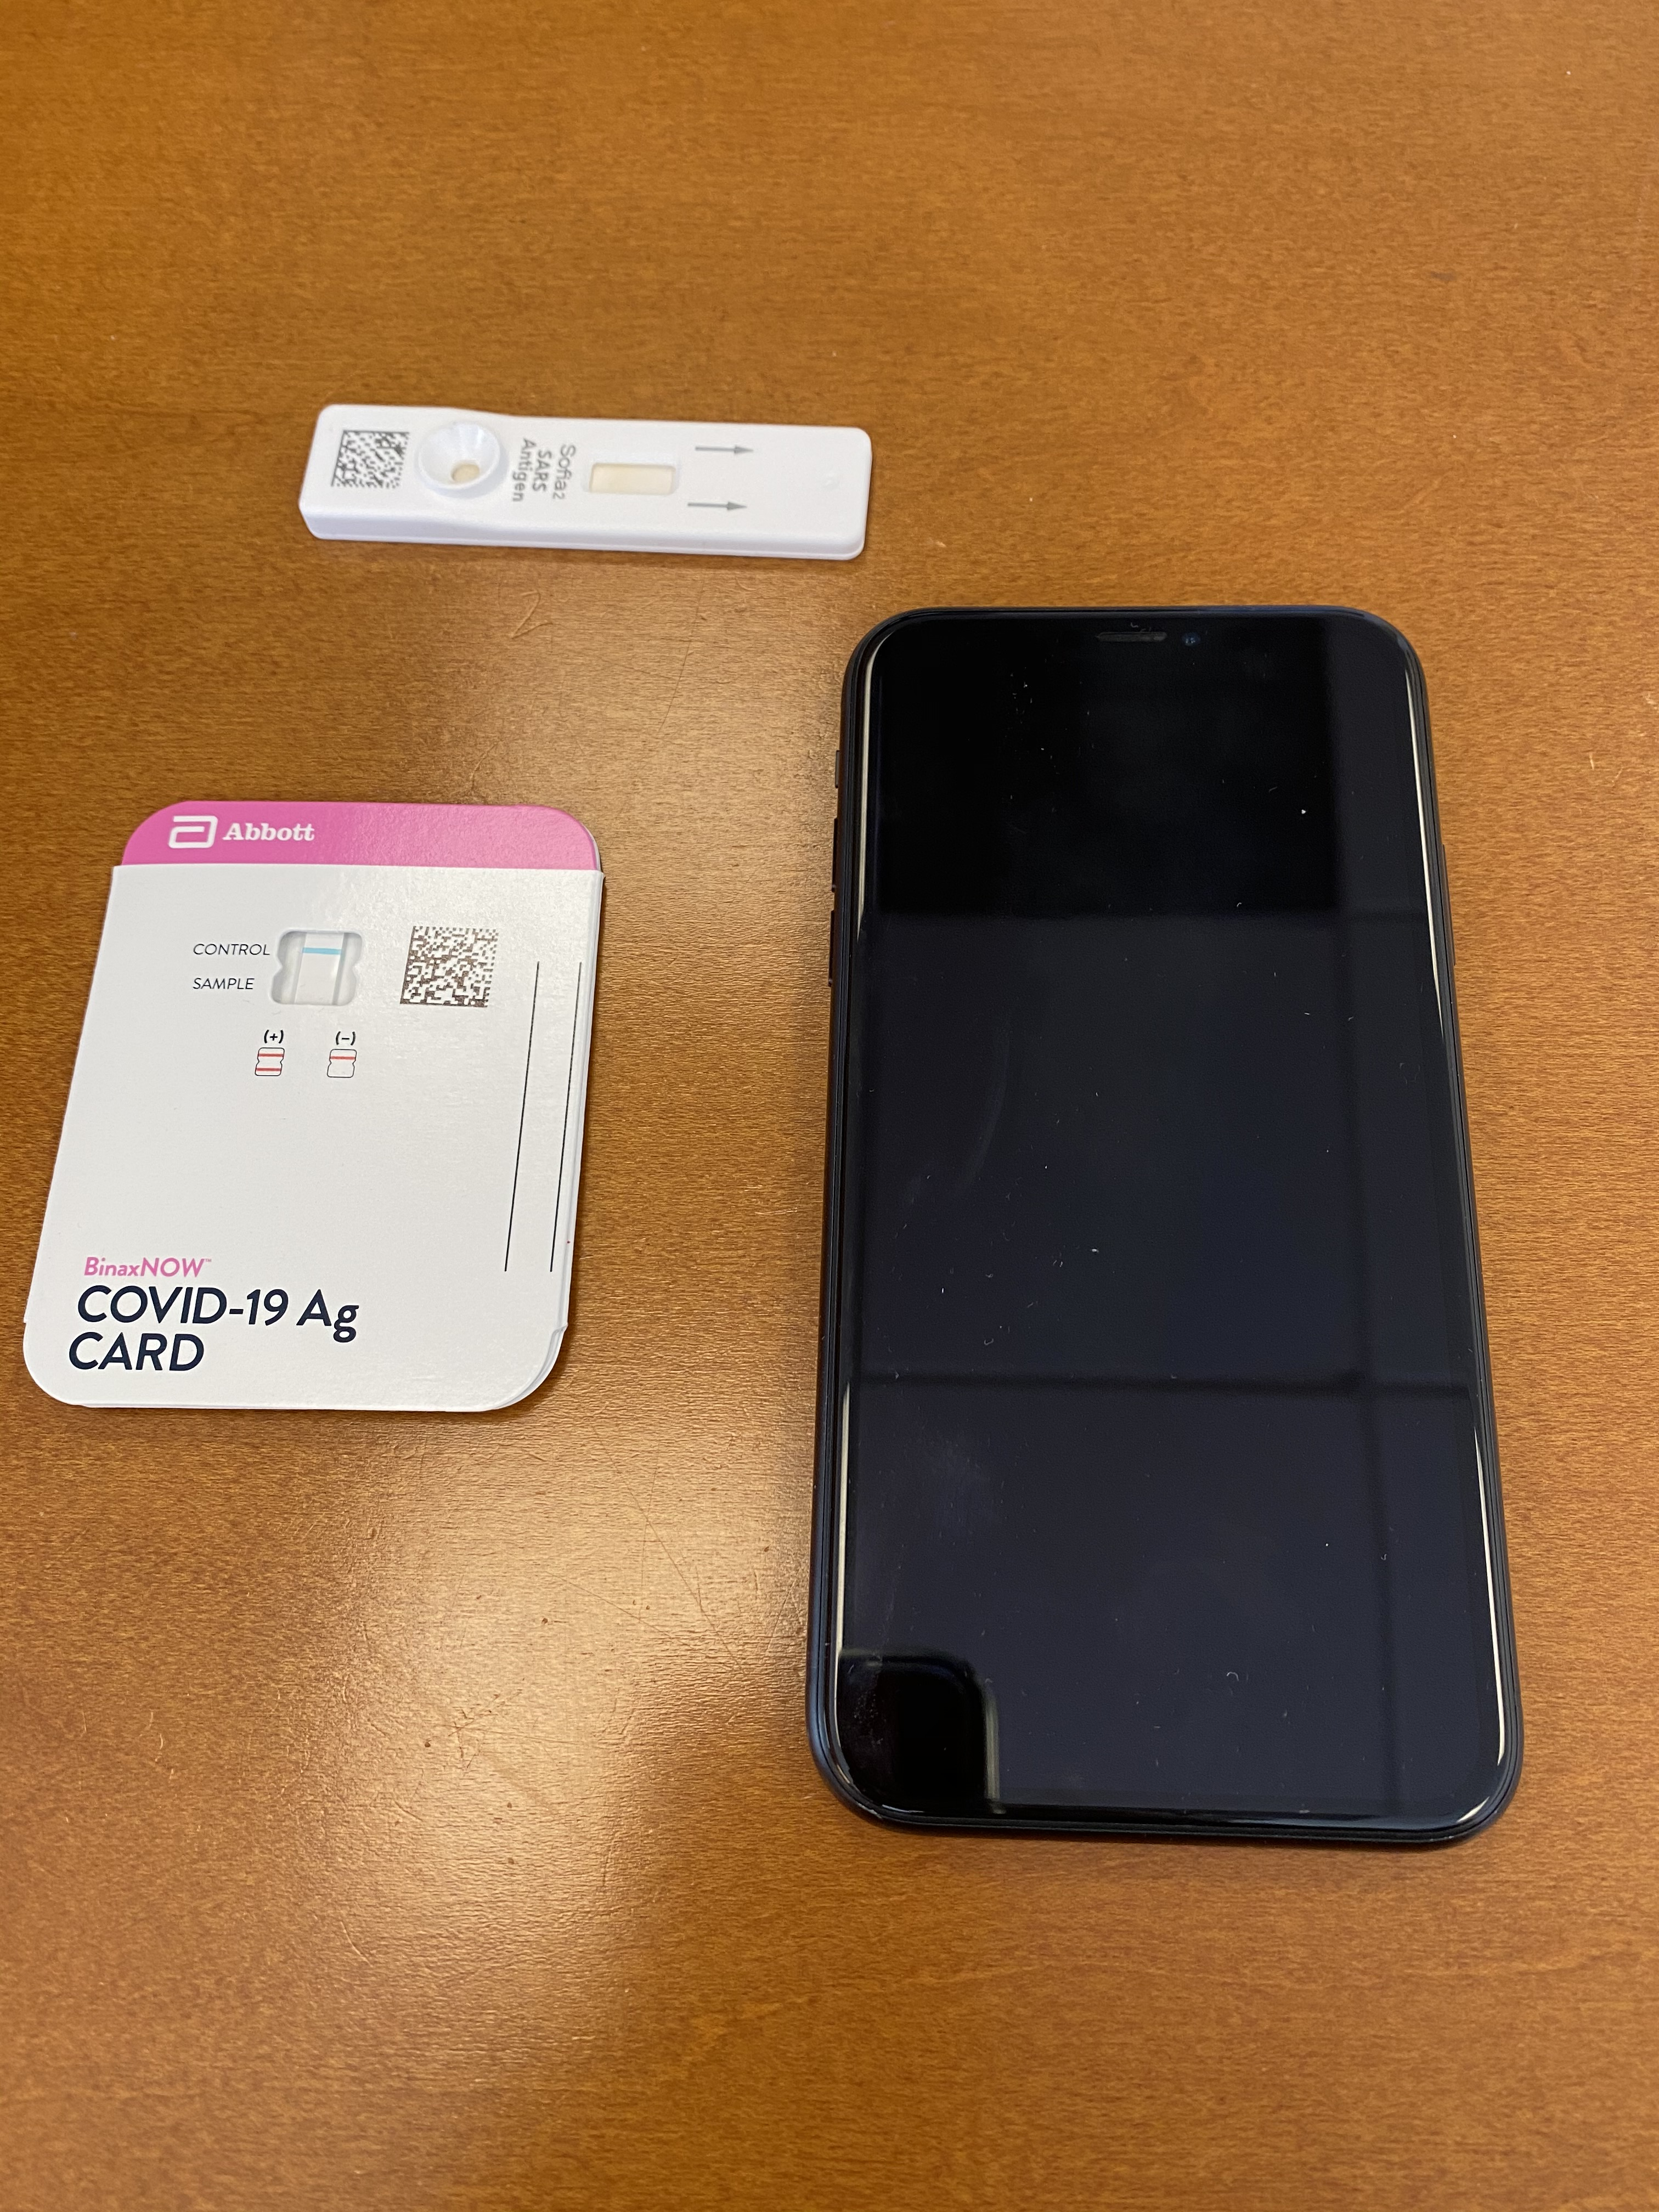binax: (16, 787, 606, 1423)
quidel: (298, 387, 885, 580)
